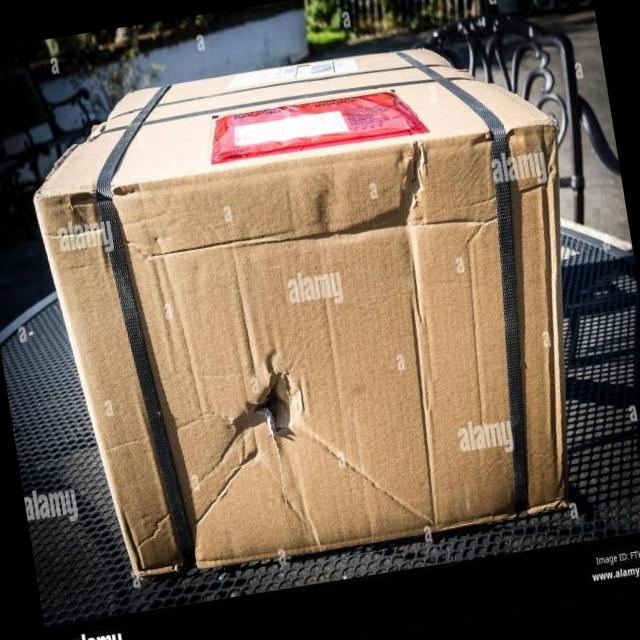box: (42, 63, 640, 561)
